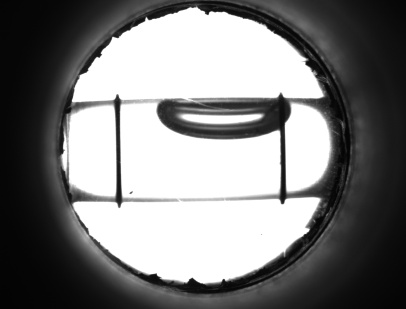line: (111, 114, 125, 191), (274, 138, 291, 188)
